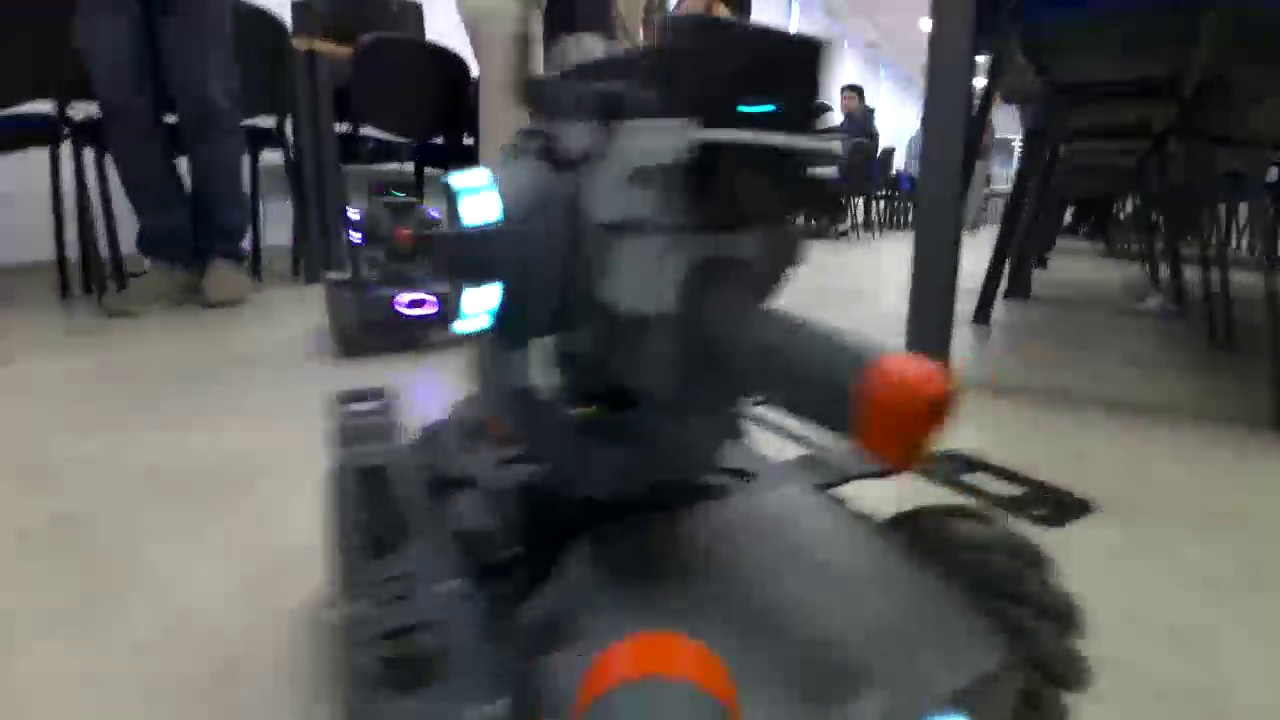robot: (320, 112, 1085, 720), (325, 165, 520, 360)
